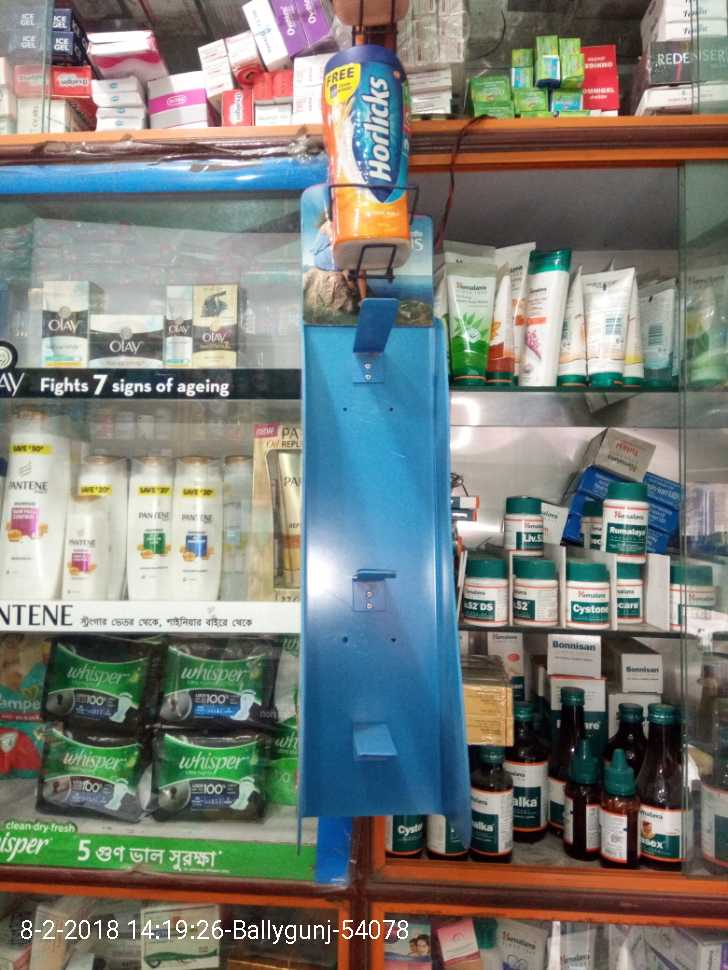beauty: (1, 423, 70, 597), (249, 422, 298, 609), (174, 462, 224, 606), (127, 453, 174, 603), (30, 284, 92, 365), (66, 494, 104, 601), (86, 310, 164, 362), (192, 287, 239, 365), (163, 287, 197, 368)
pharmacy: (152, 737, 264, 821), (169, 638, 269, 732), (45, 725, 145, 818), (42, 629, 148, 715)
